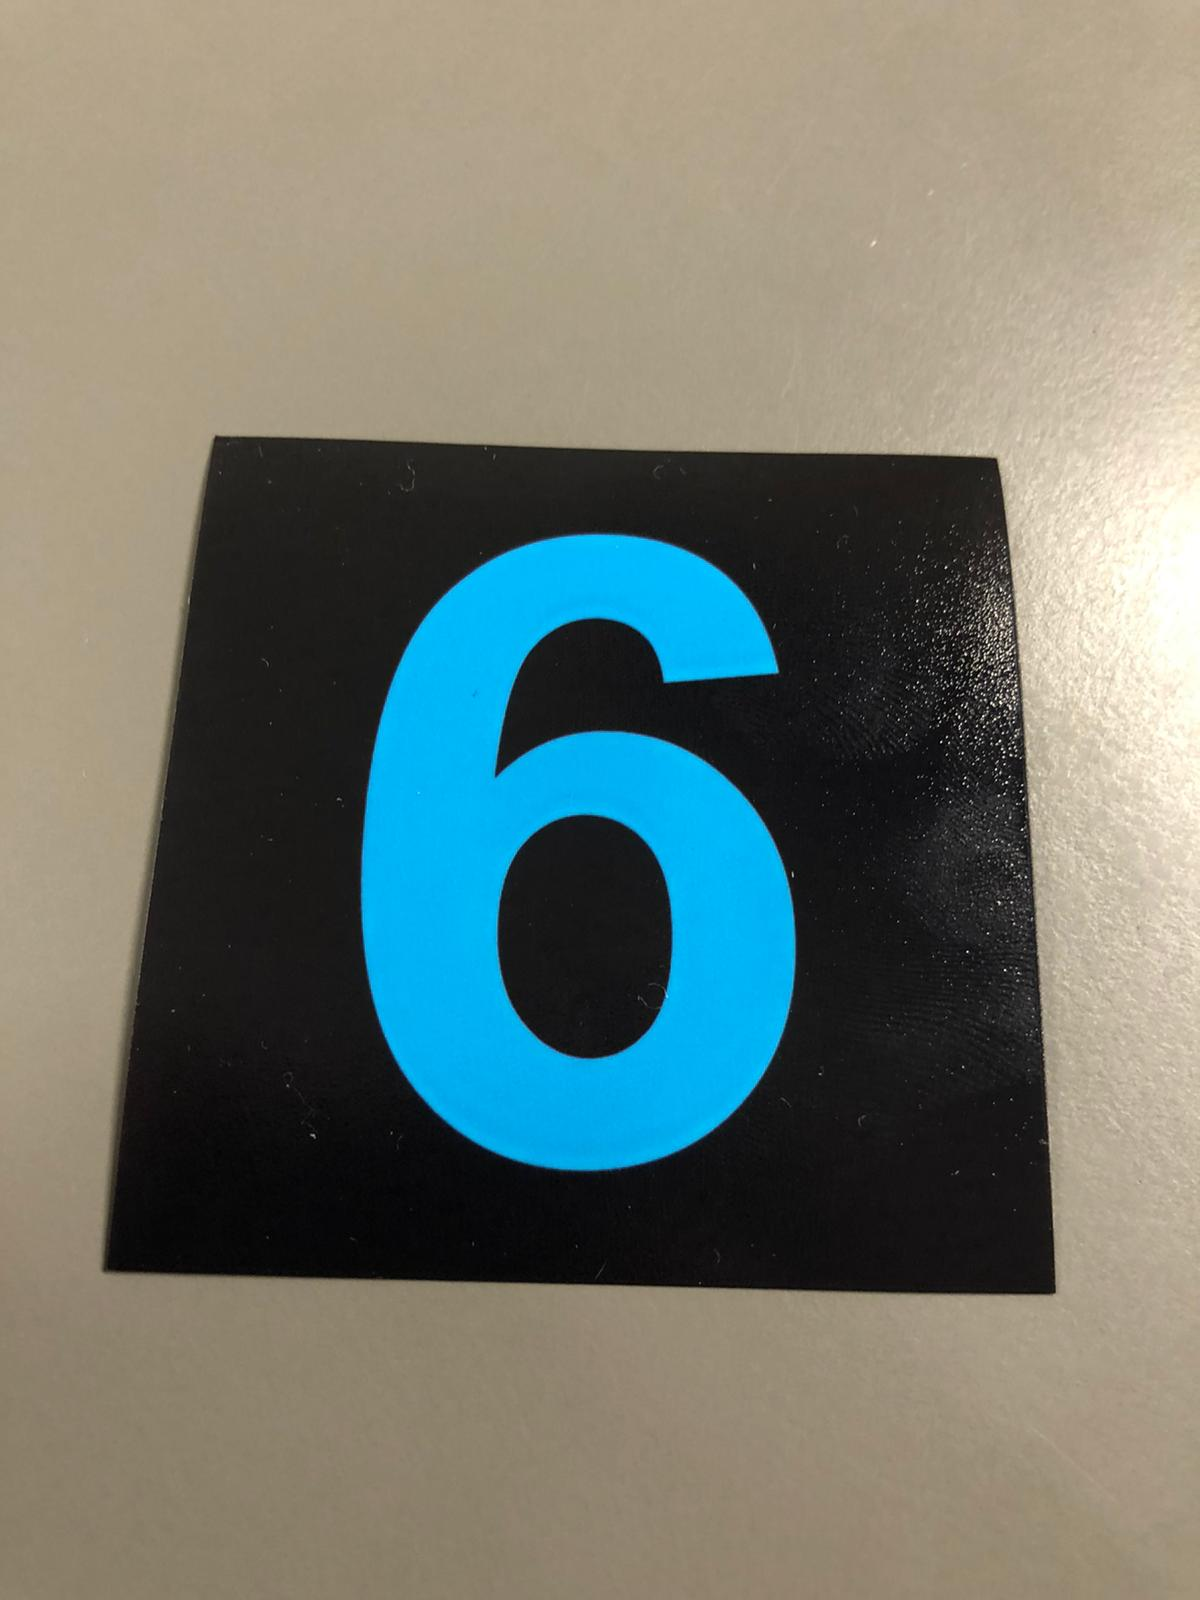Number 6: (214, 460, 983, 1238)
